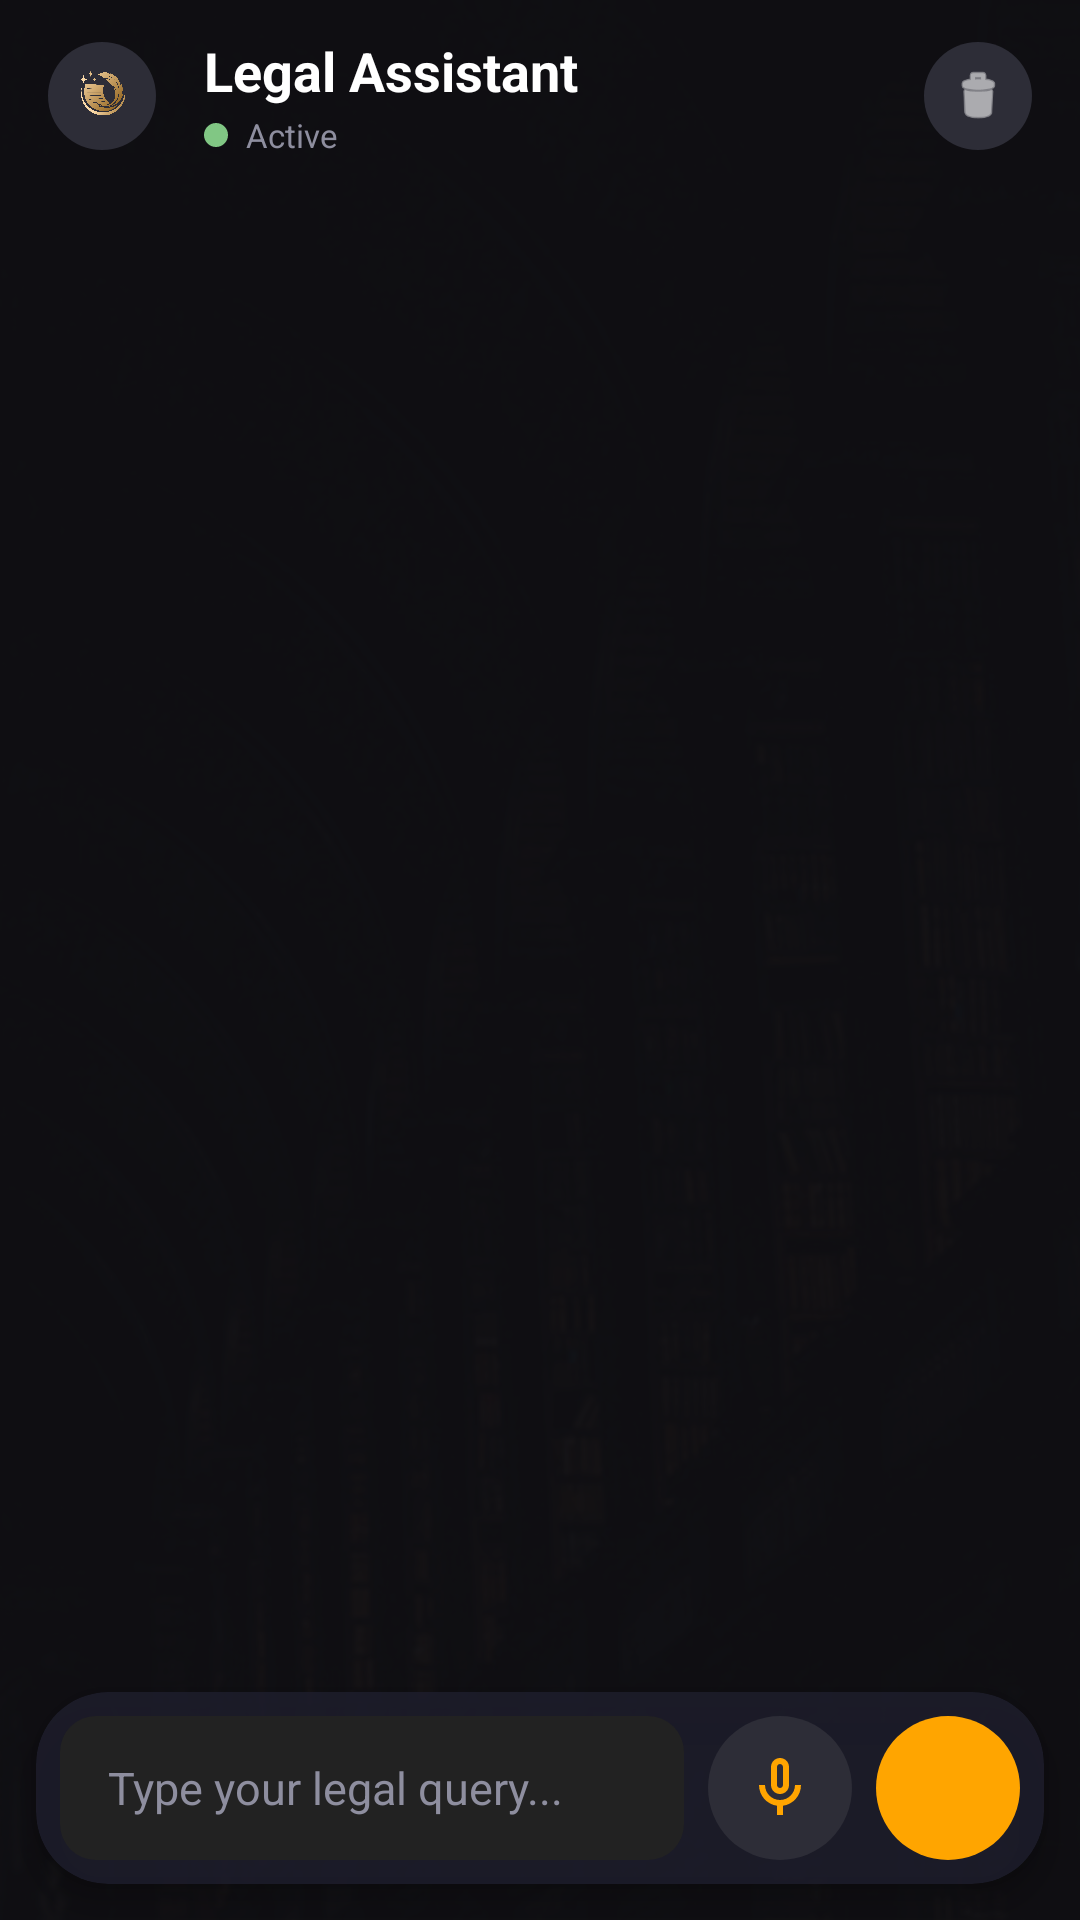

Where icons sit on this 1080px×1920px app screen, as (x1, y1, x2, y2):
Clear Chat Button: (924, 42, 1032, 150)
Voice Input Button: (708, 1716, 852, 1860)
